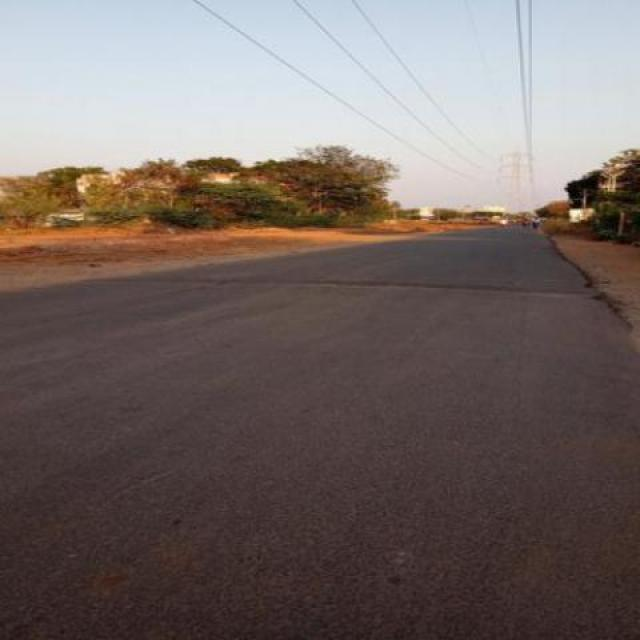Unmarked Bump: (80, 274, 603, 298)
